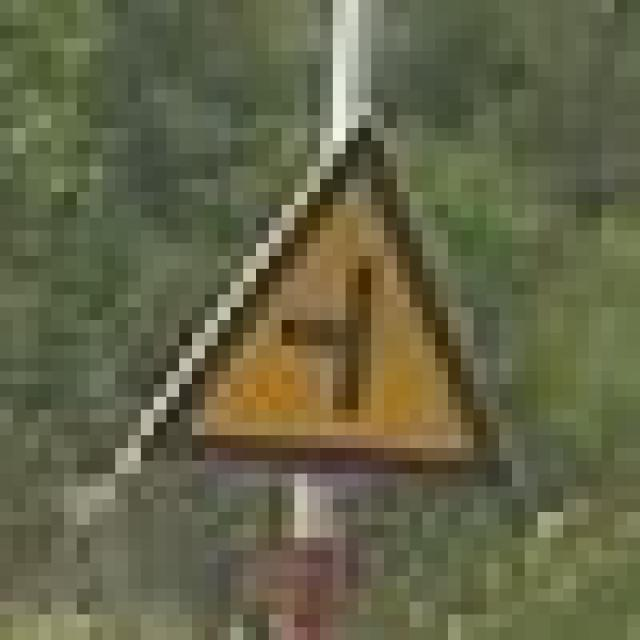side road left: (122, 121, 519, 477)
